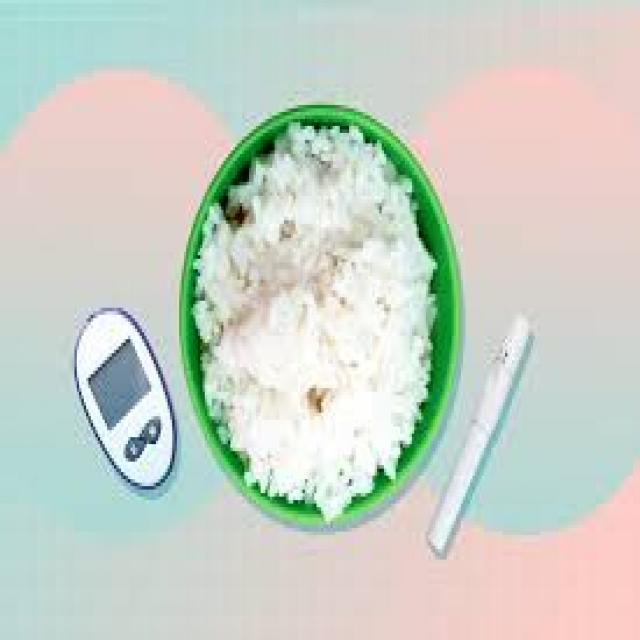White Rice: (201, 158, 438, 491)
